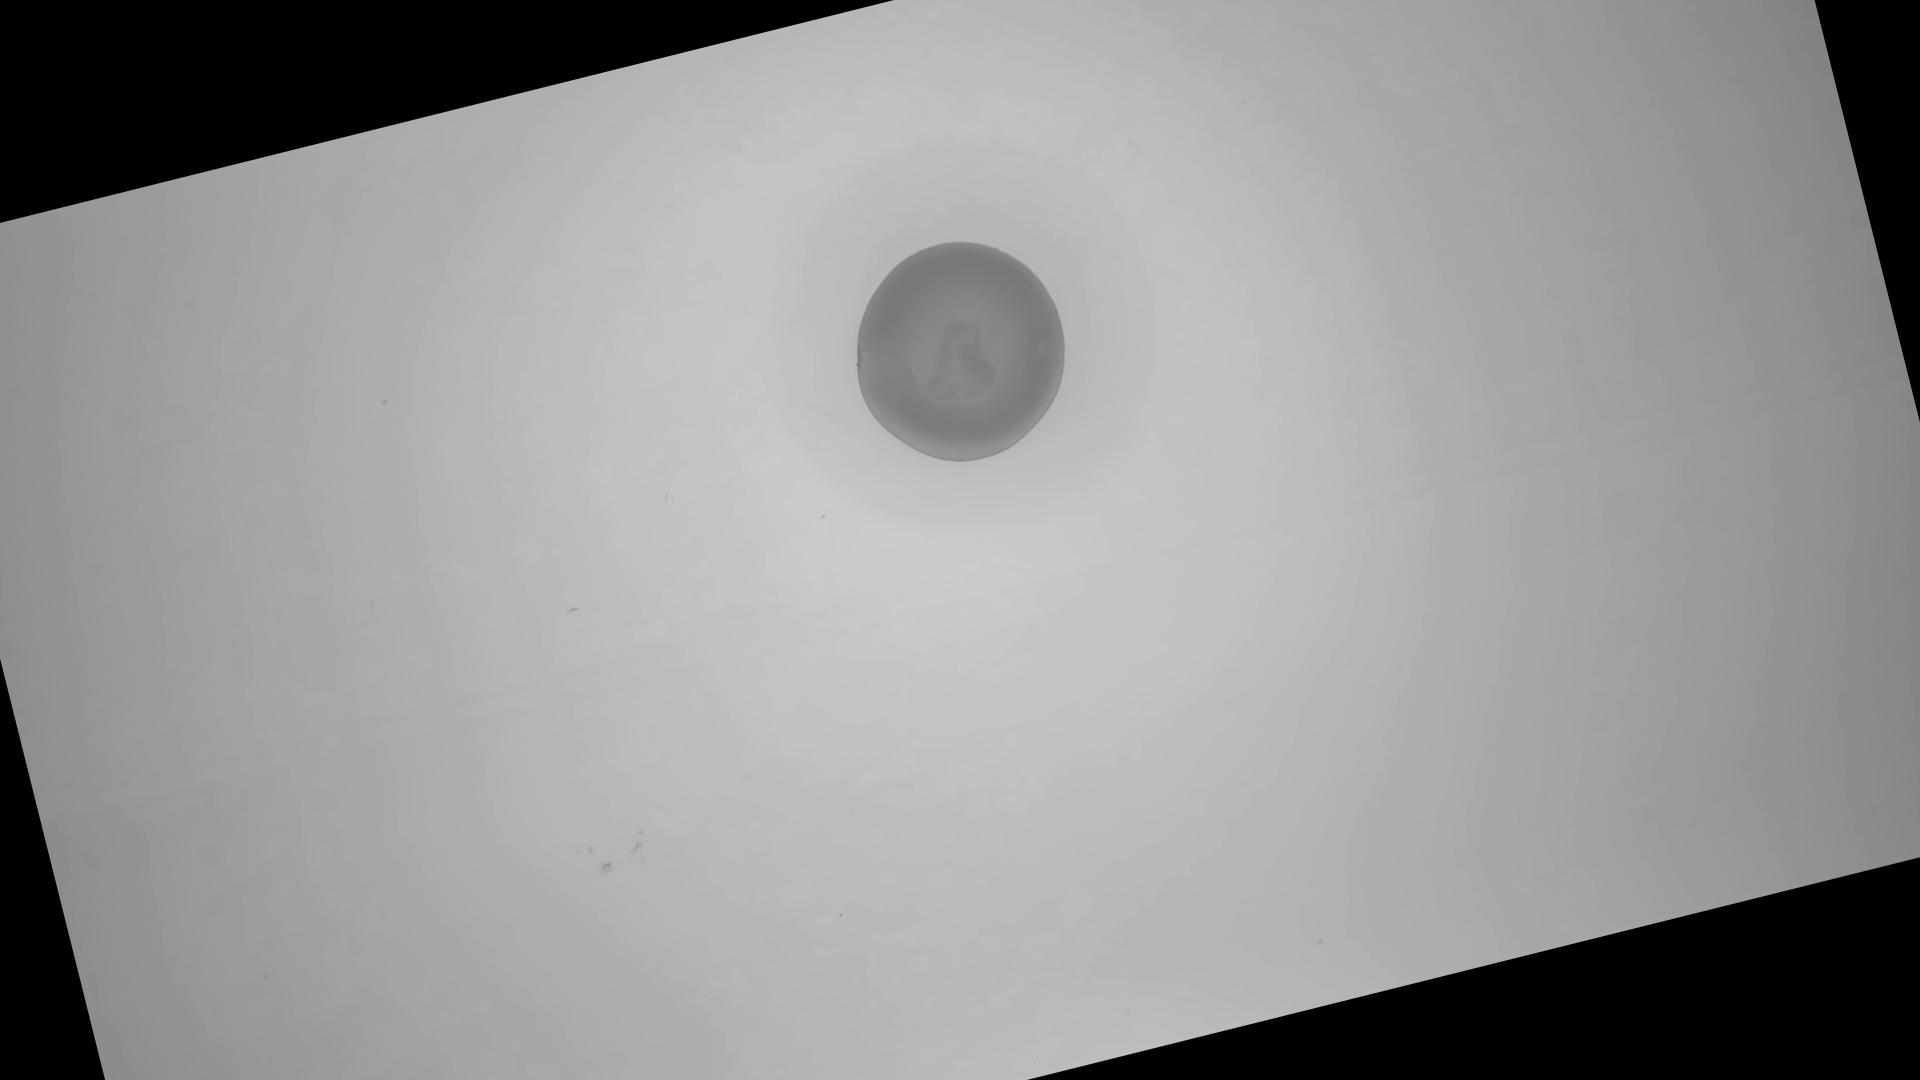abnormal: (832, 218, 1095, 488)
